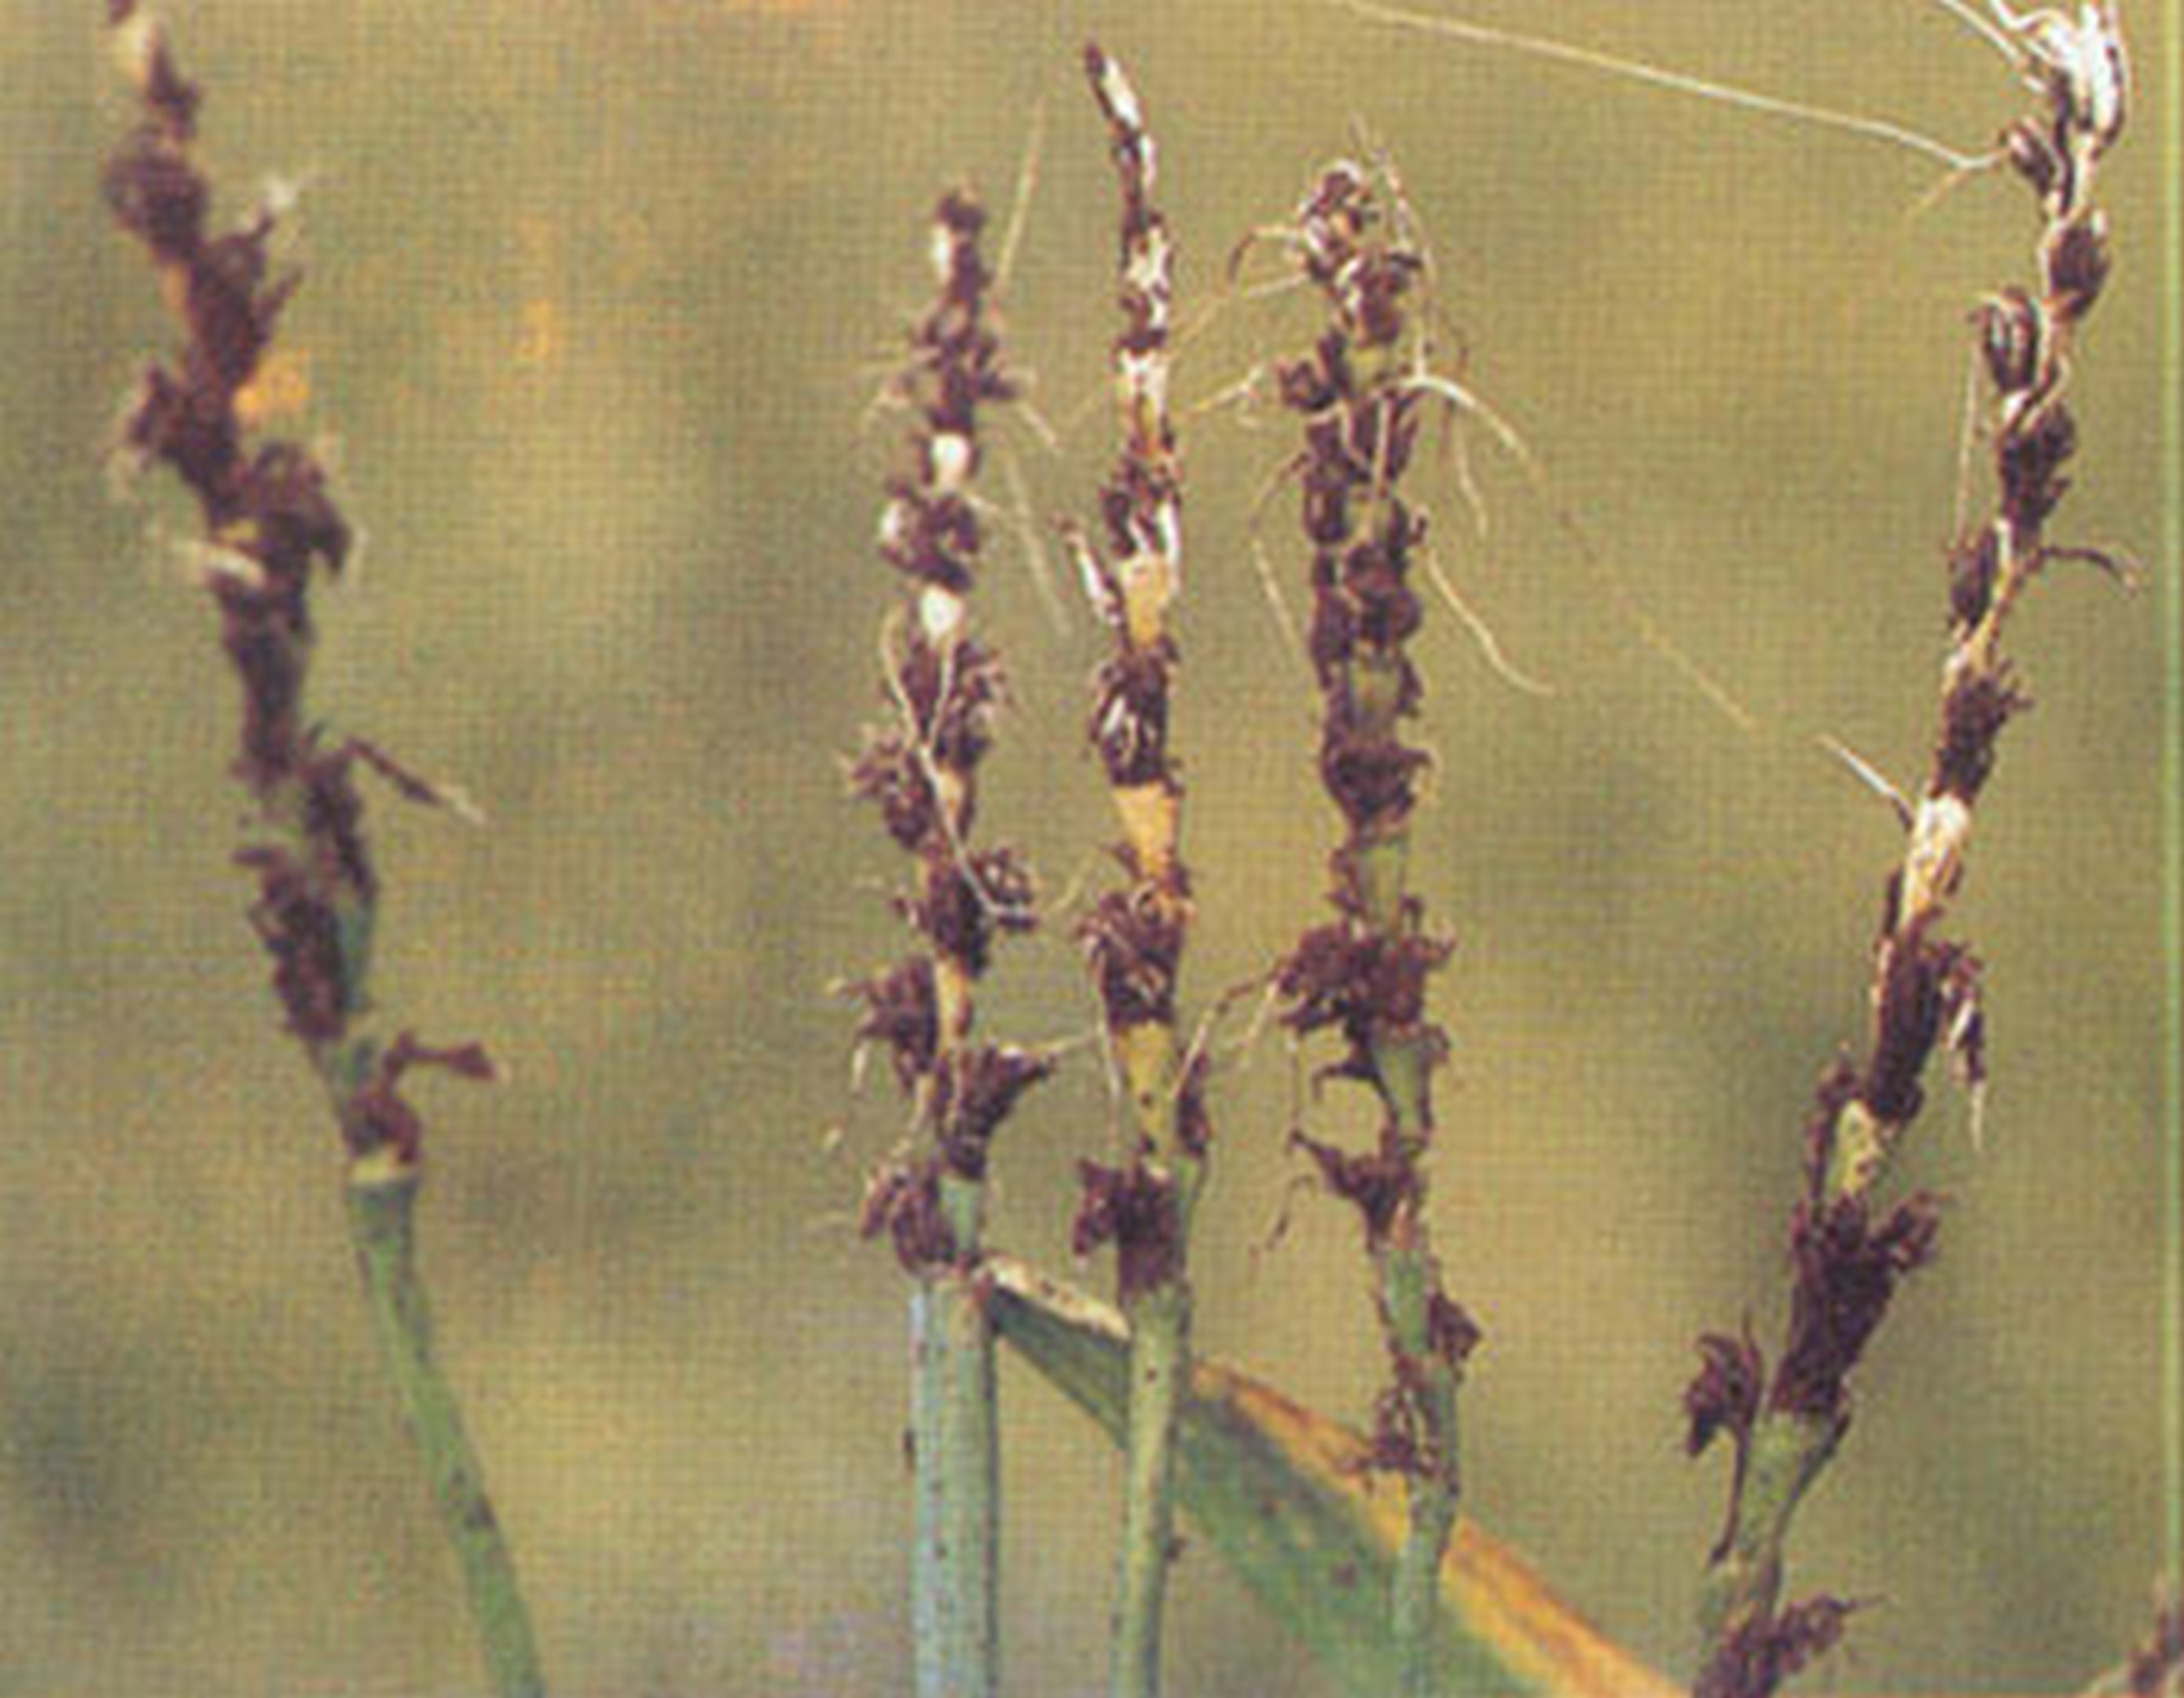Wheat Loose Smut: (801, 140, 1546, 1211), (1696, 0, 2170, 1434)
